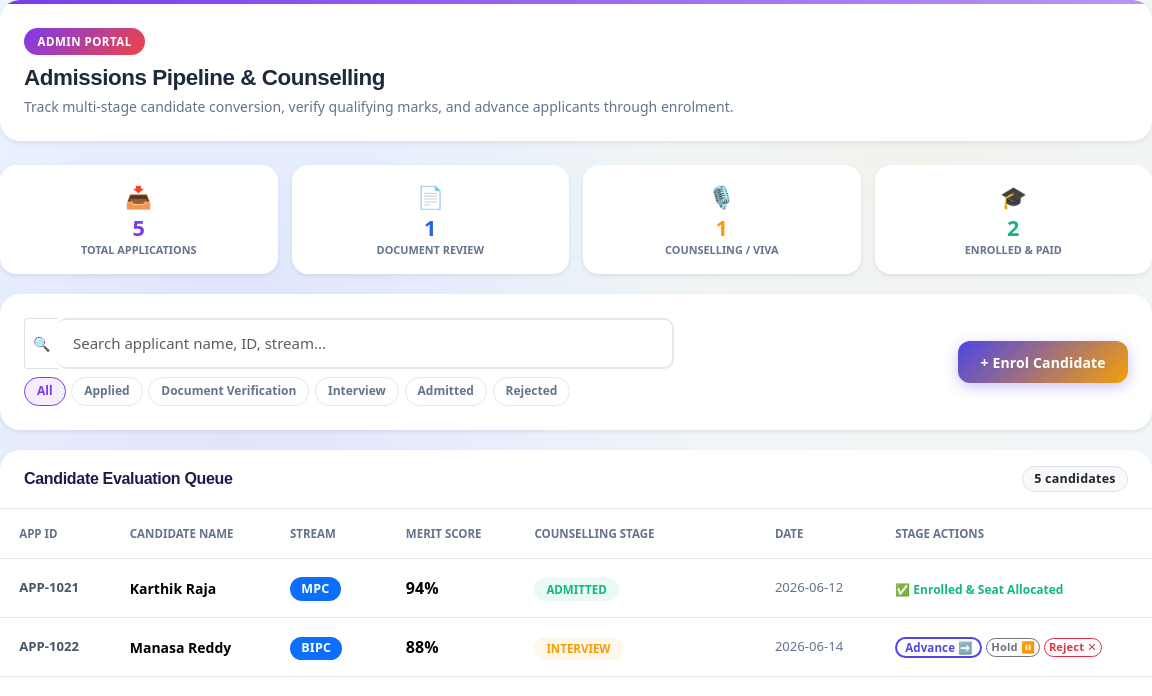
Admin Admissions Pipeline Page › registers new candidate hitting the admissions apply API
// Open add form
Click the button "+ Enrol Candidate" at point(1043, 362), box [958, 341, 1128, 383]
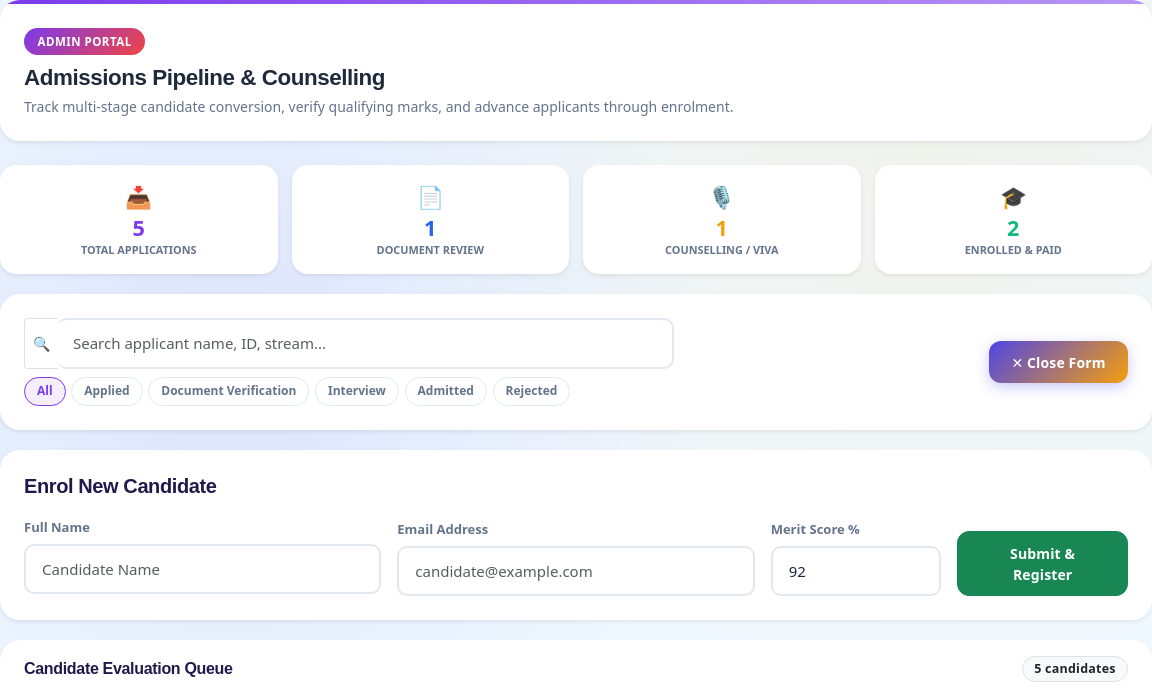
Expected: the element with test id "enrol-form" is shown, [0, 450, 1151, 620]
Type "Sravani Priya" into the field with placeholder "Candidate Name" at point(203, 569), box [24, 544, 381, 594]
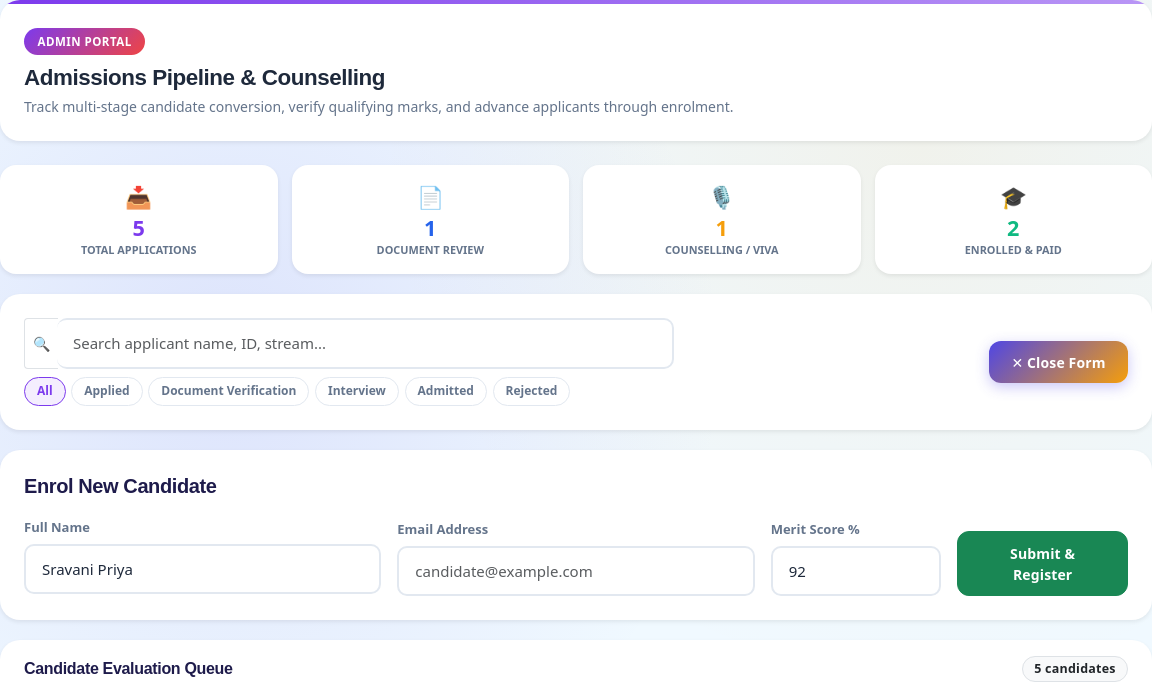
Type "sravani@example.com" into the field with placeholder "candidate@example.com" at point(576, 571), box [397, 546, 755, 596]
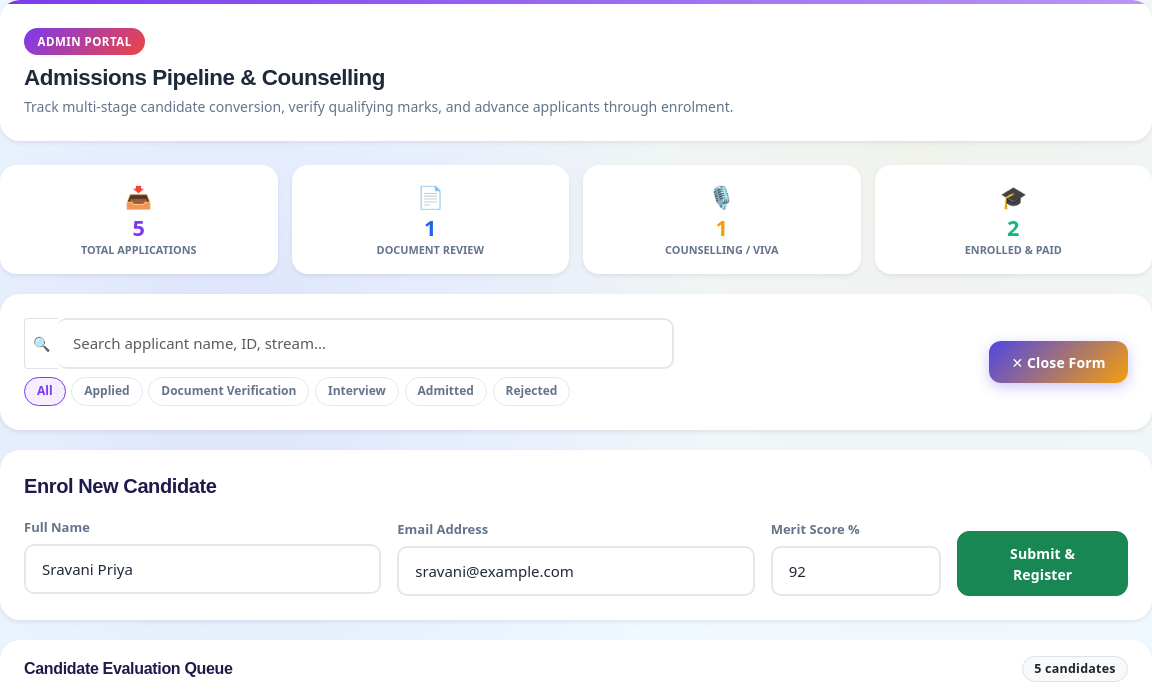
Click the button "Submit & Register" at point(1043, 564), box [957, 531, 1128, 596]
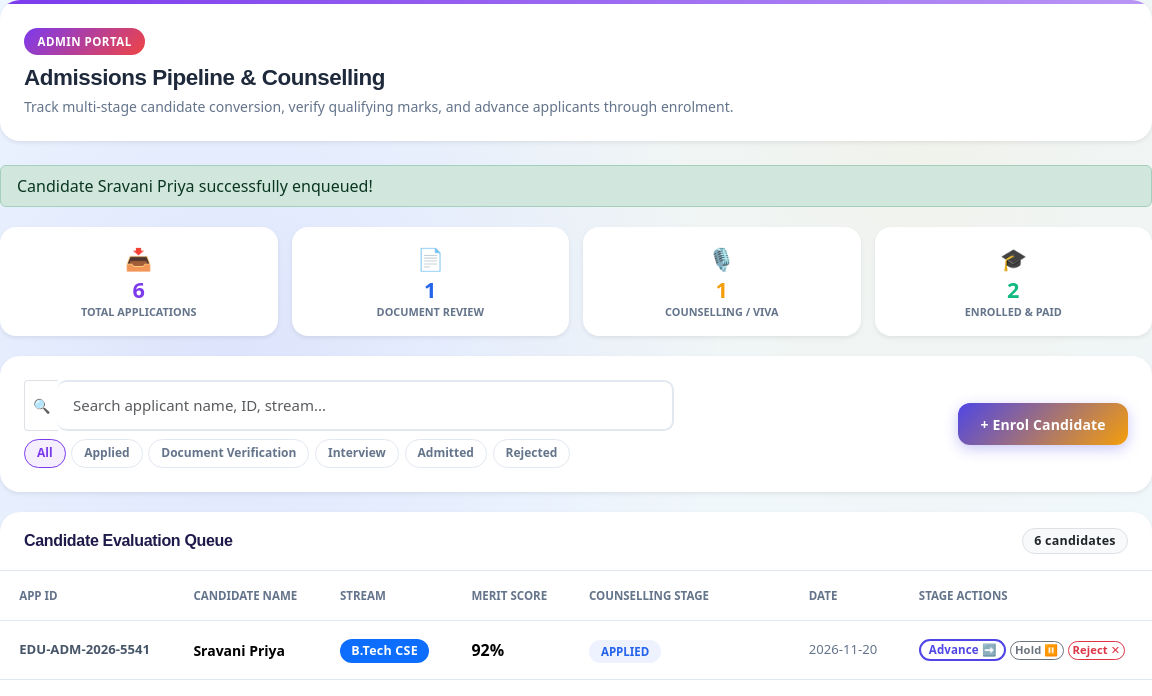
Expected: the text "Sravani Priya" is shown, [174, 621, 321, 680]
